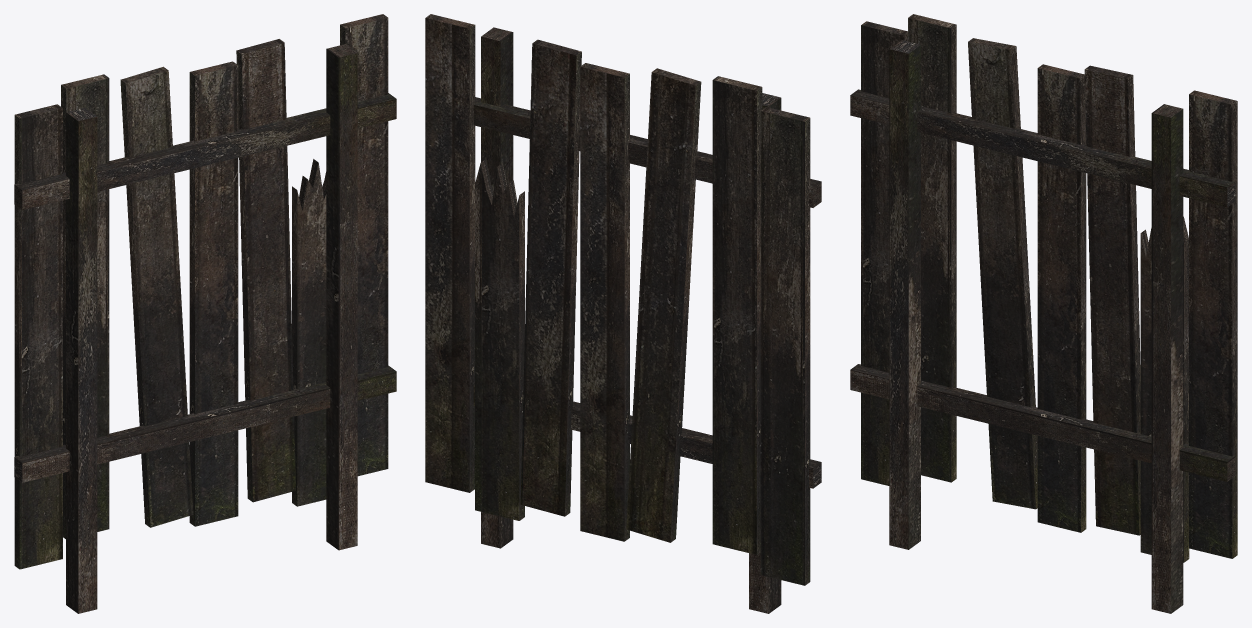
The model's file is WoodenFence_3.fbx.
The picture shows the model from 3 angles, left to right: view 1: azimuth 30°, elevation 25°; view 2: azimuth 150°, elevation 25°; view 3: azimuth 330°, elevation 25°; orthographic projection. The views are drawn at different scales.
Visible parts, largest first — view 1: WoodenFence_3; view 2: WoodenFence_3; view 3: WoodenFence_3.
Boxes of the visible parts, x1,y1,x2,y2 form: WoodenFence_3: (14,14,396,613); WoodenFence_3: (425,14,821,613); WoodenFence_3: (850,14,1237,613).
Size of the model in its own units: 174 by 228 by 16.41.
